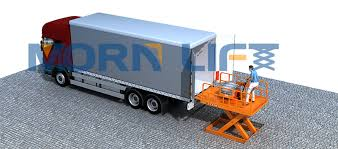Scissor Lift: (197, 71, 273, 145)
